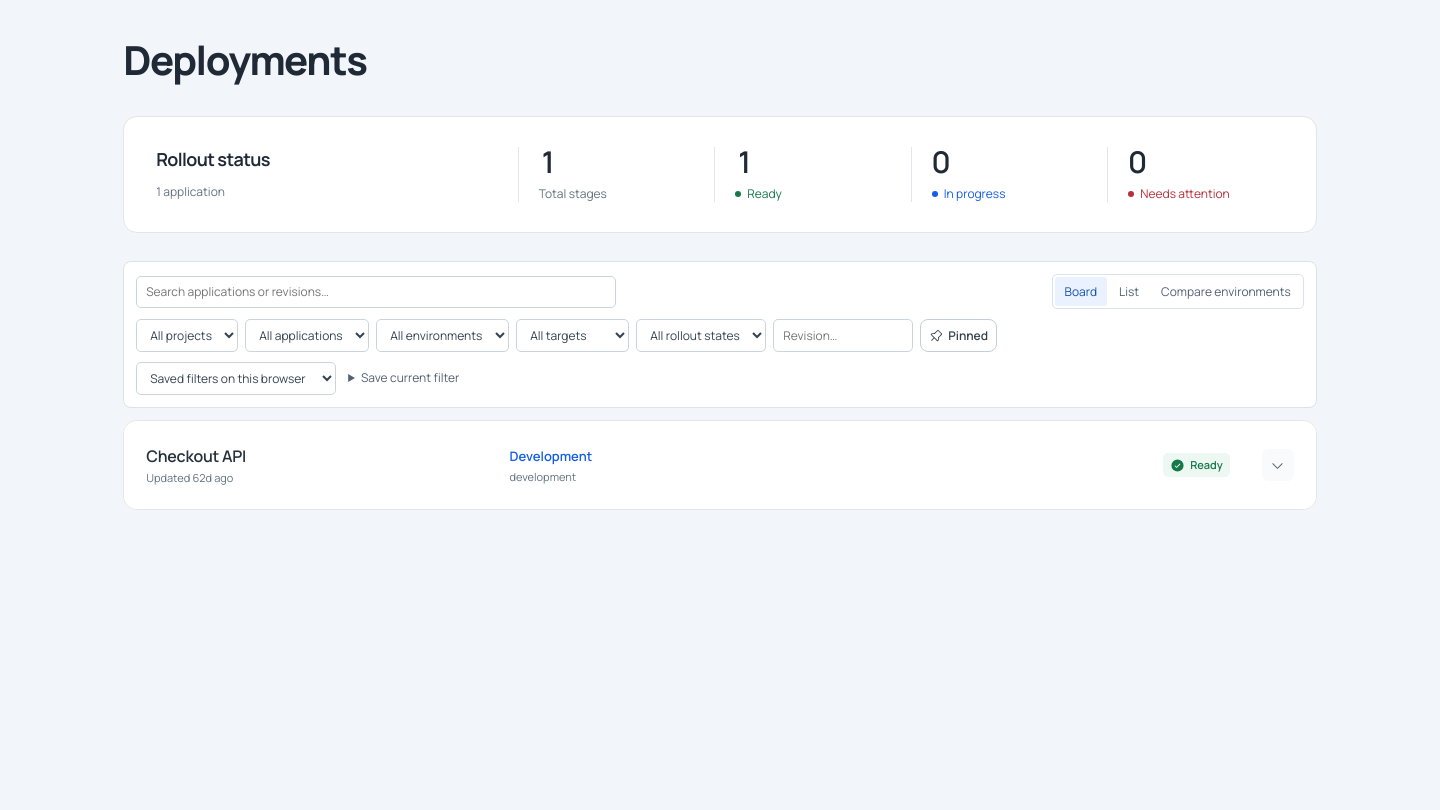
deployment navigation › keeps an older failure in recent runs without replacing the current state
Expected: the header named "Expand Checkout API deployment" is shown, [146, 445, 1294, 485]
Click the button named "Expand Checkout API deployment": click(1278, 465) [1262, 449, 1294, 481]
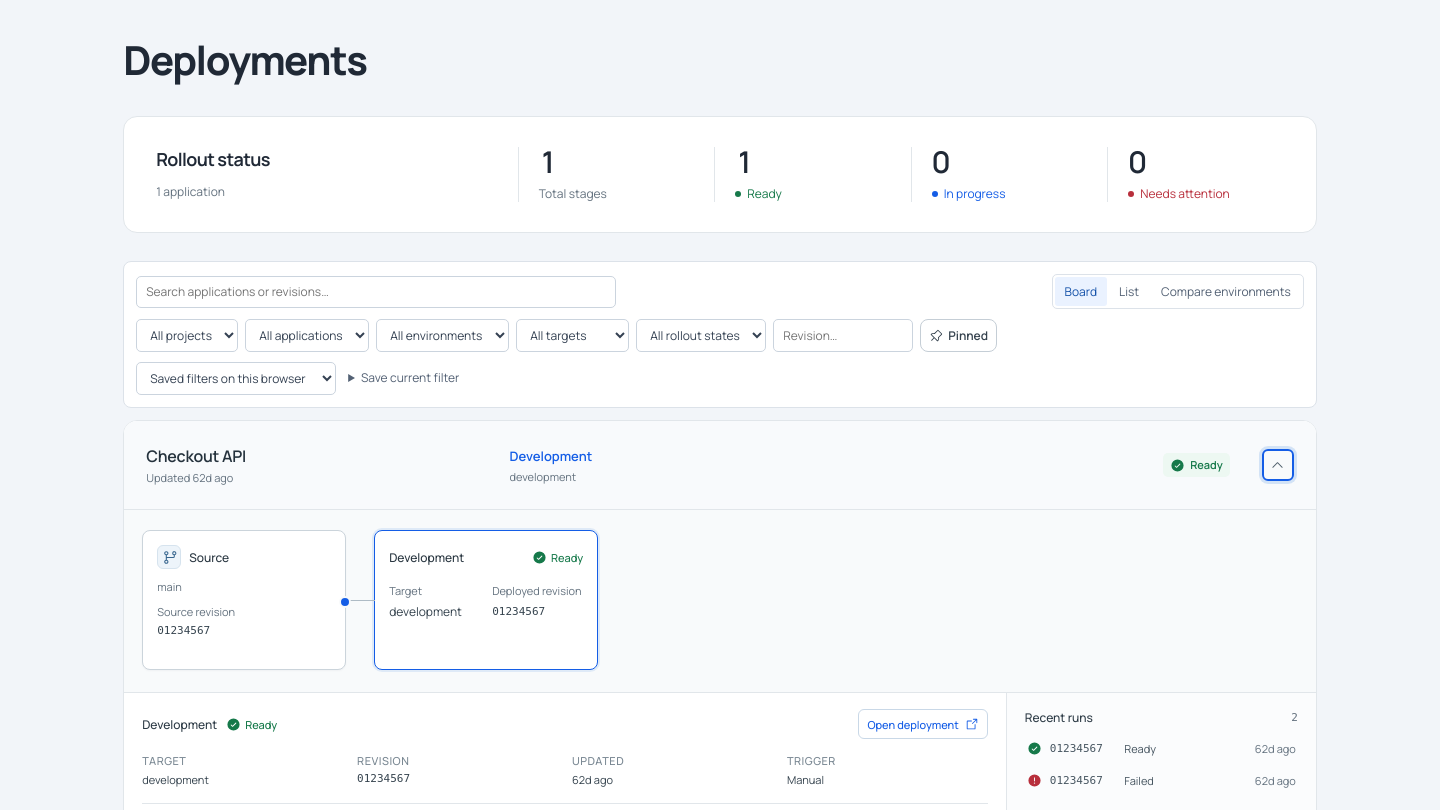
Expected: the button with aria-label "Development, Ready" is shown, [374, 530, 598, 670]
Expected: the number of links named "Checkout API Development 01234567 deployment" is 2, [1027, 740, 1296, 756]; [1027, 772, 1296, 788]
Expected: the text "Failed" is shown, [1124, 772, 1154, 788]
